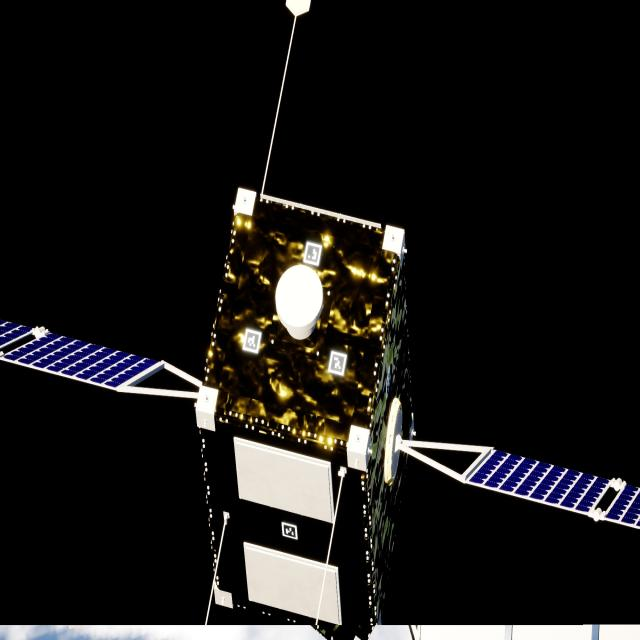medium_debris: (0, 189, 640, 640)
